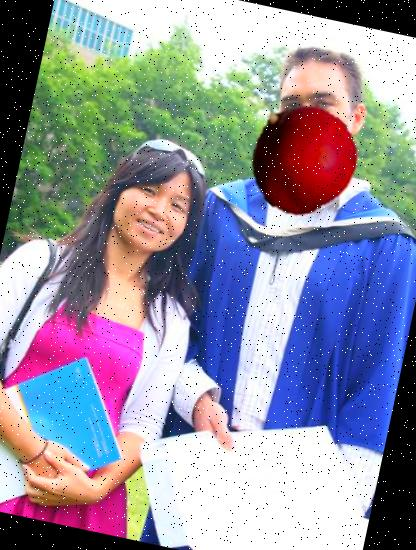Nectarine: (236, 94, 366, 224)
